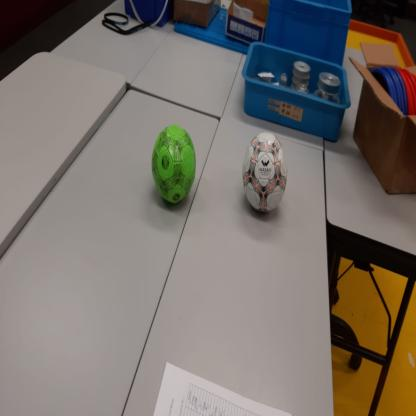ball: (242, 130, 288, 216), (152, 126, 196, 207)
